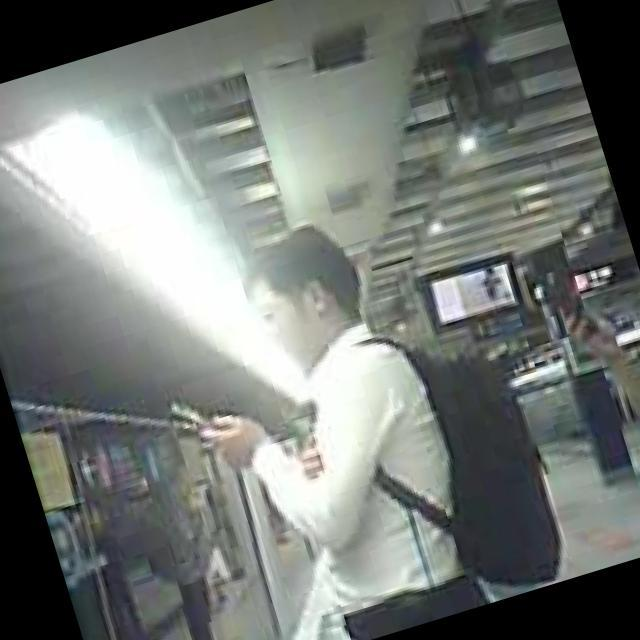person: (153, 201, 502, 640), (545, 261, 640, 560)
